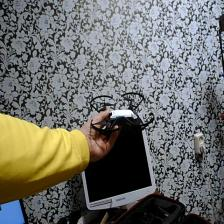drone: (88, 86, 159, 142)
